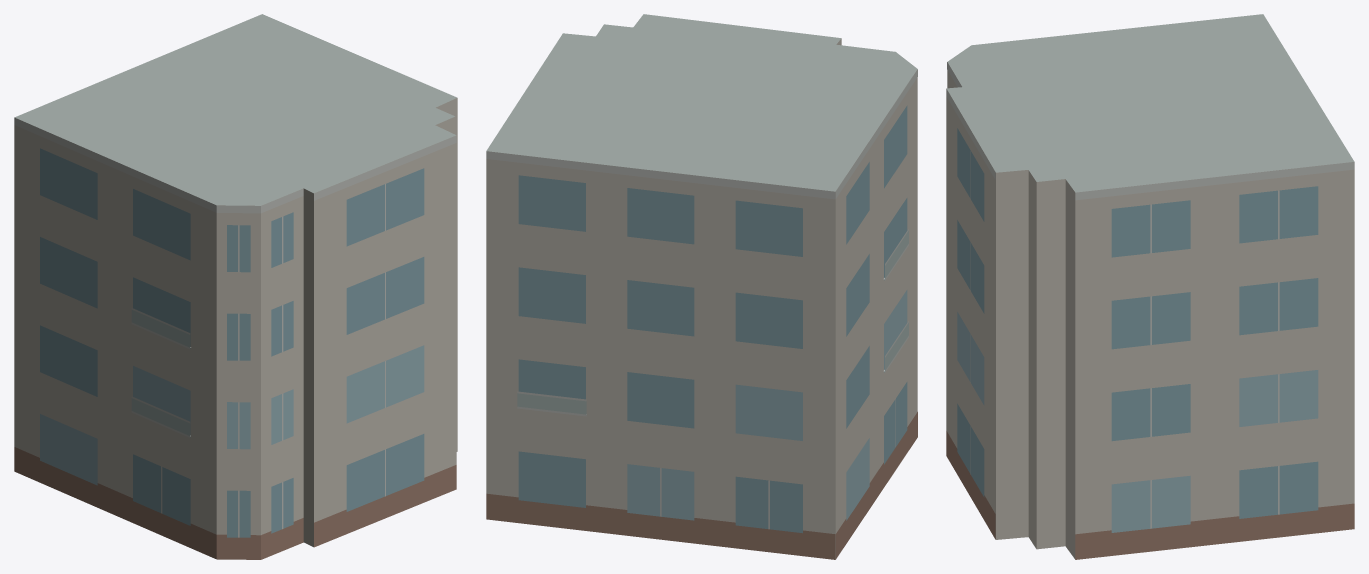
File: survey-upis-32931825.glb
The picture shows the model from 3 angles, left to right: view 1: azimuth 30°, elevation 25°; view 2: azimuth 150°, elevation 25°; view 3: azimuth 270°, elevation 25°; orthographic projection. The views are drawn at different scales.
Parts seen in each view (by area): view 1: survey-upis-32931825.tmp; view 2: survey-upis-32931825.tmp; view 3: survey-upis-32931825.tmp.
Boxes of the visible parts, box(x1,y1,x2,y2) form: survey-upis-32931825.tmp: box(14, 14, 457, 559); survey-upis-32931825.tmp: box(486, 14, 917, 559); survey-upis-32931825.tmp: box(946, 14, 1354, 559).
Size of the model in its own units: 12 by 11.5 by 11.59.
